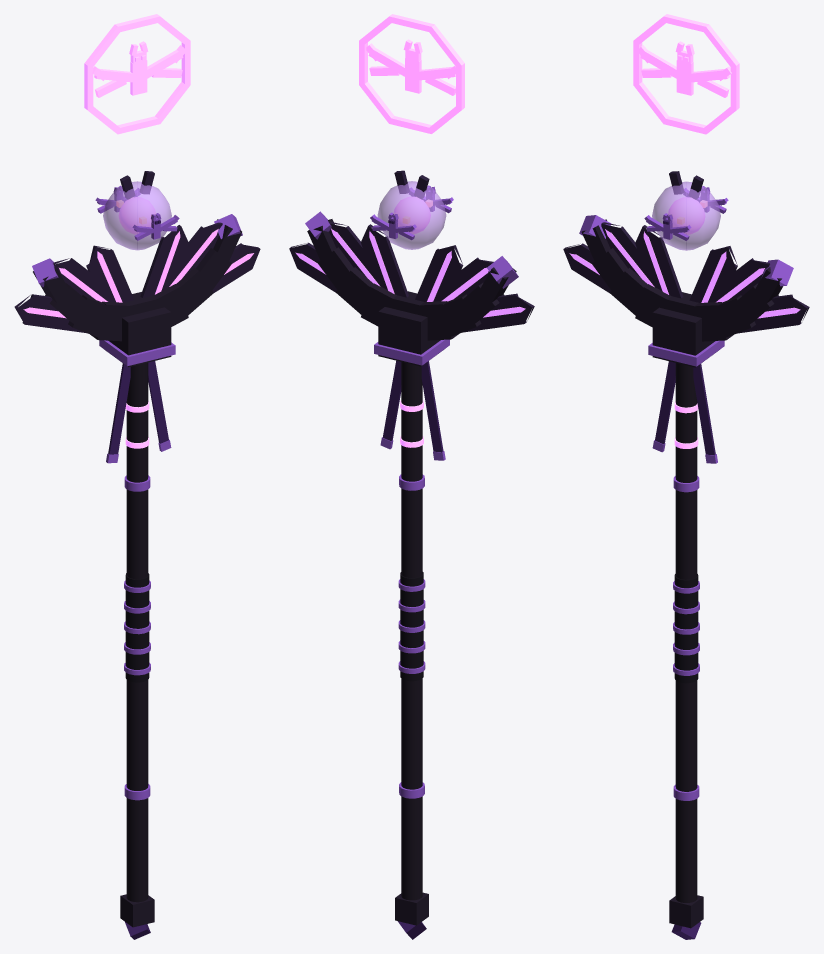
3 views of the same model, side by side, from view 1: azimuth 30°, elevation 25°; view 2: azimuth 150°, elevation 25°; view 3: azimuth 330°, elevation 25° (orthographic).
Parts seen in each view (by area): view 1: nightwing-staff; view 2: nightwing-staff; view 3: nightwing-staff.
Boxes of the visible parts, <box> form: nightwing-staff: <box>14,14,260,939</box>; nightwing-staff: <box>289,14,534,939</box>; nightwing-staff: <box>563,14,809,939</box>.
Size of the model in its own units: 0.5595 by 2.02 by 0.166.
